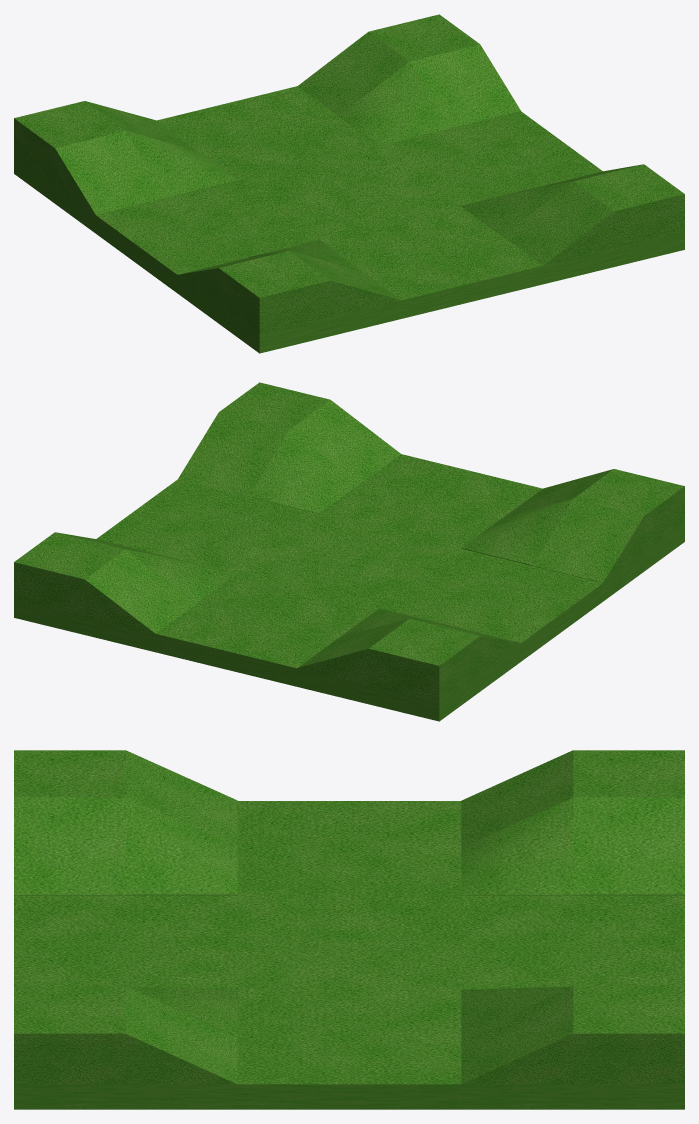
File: StageAA.fbx
The picture shows the model from 3 angles, top to bottom: view 1: azimuth 30°, elevation 25°; view 2: azimuth 150°, elevation 25°; view 3: azimuth 270°, elevation 25°; orthographic projection. The views are drawn at different scales.
Visible parts, largest first — view 1: polySurface18; view 2: polySurface18; view 3: polySurface18.
Boxes of the visible parts, <box> form: polySurface18: <box>14,14,684,353</box>; polySurface18: <box>14,382,684,721</box>; polySurface18: <box>14,750,684,1109</box>.
Bounding box in the file's own units: 24 × 3 × 24.
Materials: 2 (2 with a texture image).
